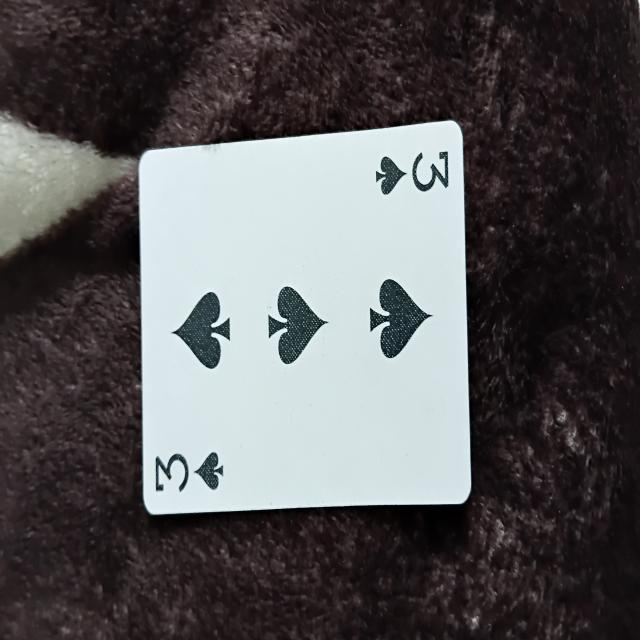3S: (136, 144, 469, 516)
